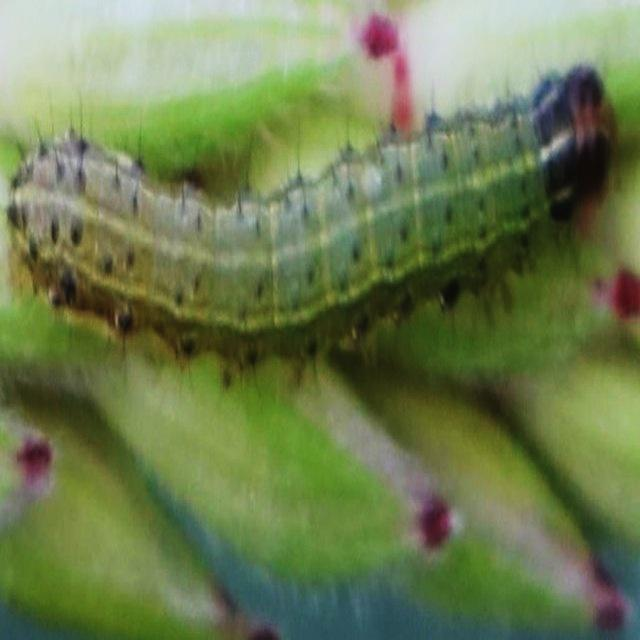gusano_cogollero: (11, 65, 614, 353)
